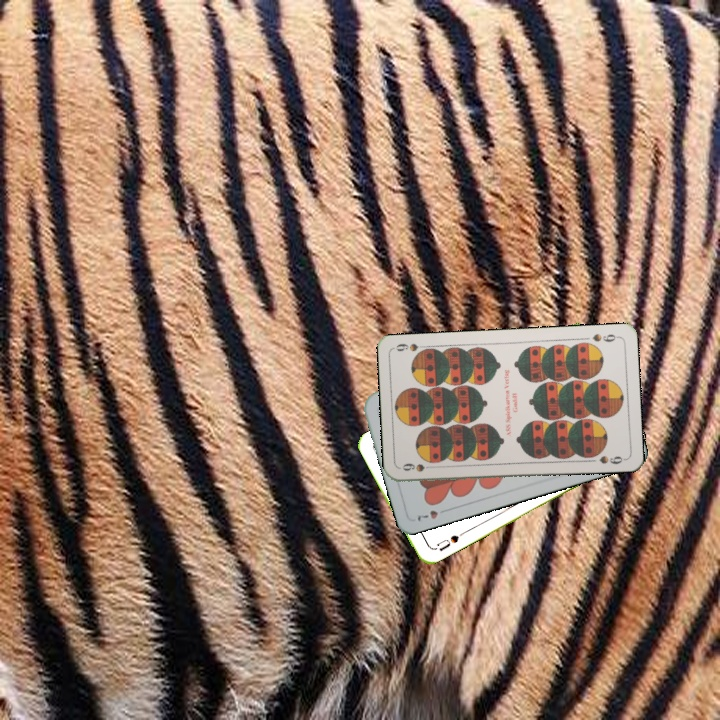H7: (413, 505, 451, 524)
S9: (398, 459, 430, 474), (588, 330, 621, 344)
SU: (433, 529, 466, 554)
